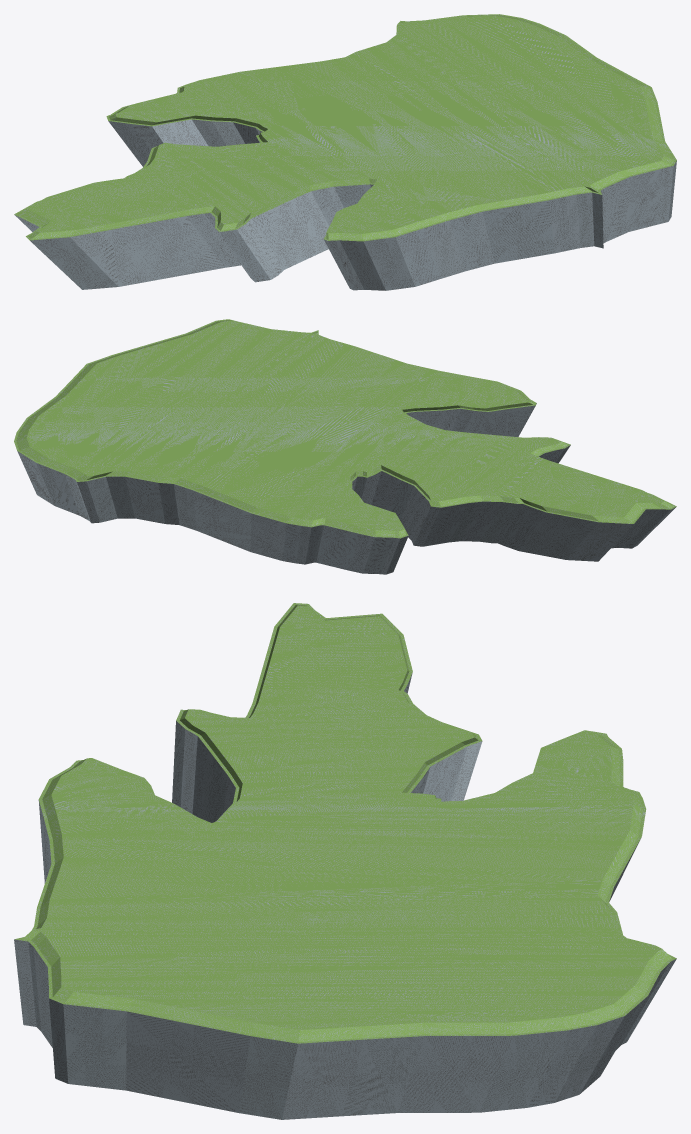
Rendered from Rock_Shelf_Grass_01.fbx.
3 renders of one model, top to bottom at view 1: azimuth 30°, elevation 25°; view 2: azimuth 150°, elevation 25°; view 3: azimuth 270°, elevation 25°, orthographic. The views are drawn at different scales.
Visible parts, largest first — view 1: Model; view 2: Model; view 3: Model.
Boxes of the visible parts, x1,y1,x2,y2 form: Model: (14, 14, 676, 290); Model: (14, 319, 676, 574); Model: (14, 603, 676, 1119).
Size of the model in its own units: 20153 by 1875 by 12814.
